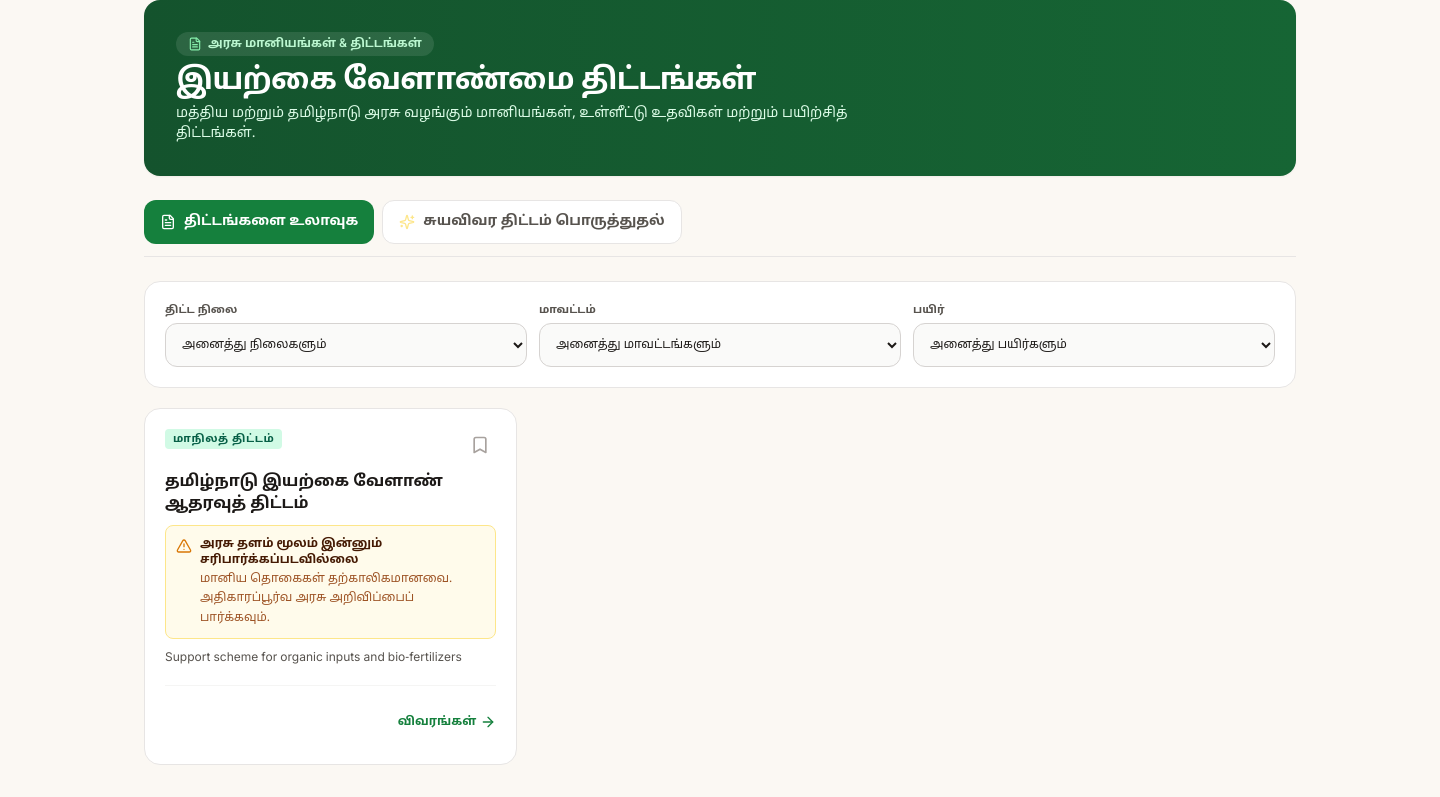
Phase 2: Farmer Core › Schemes Page & Matcher › renders scheme list and allows switching to smart matcher
The image size is (1440, 797).
Check: the heading "தமிழ்நாடு இயற்கை வேளாண் ஆதரவுத் திட்டம்" is shown, box left=165, top=472, right=443, bottom=514
# Switch to Matcher tab
What coordinates should you click on to do the following:
click the button "சுயவிவர திட்டம் பொருத்துதல்"
I would click on:
 (532, 222)
Its box is left=382, top=200, right=682, bottom=244.
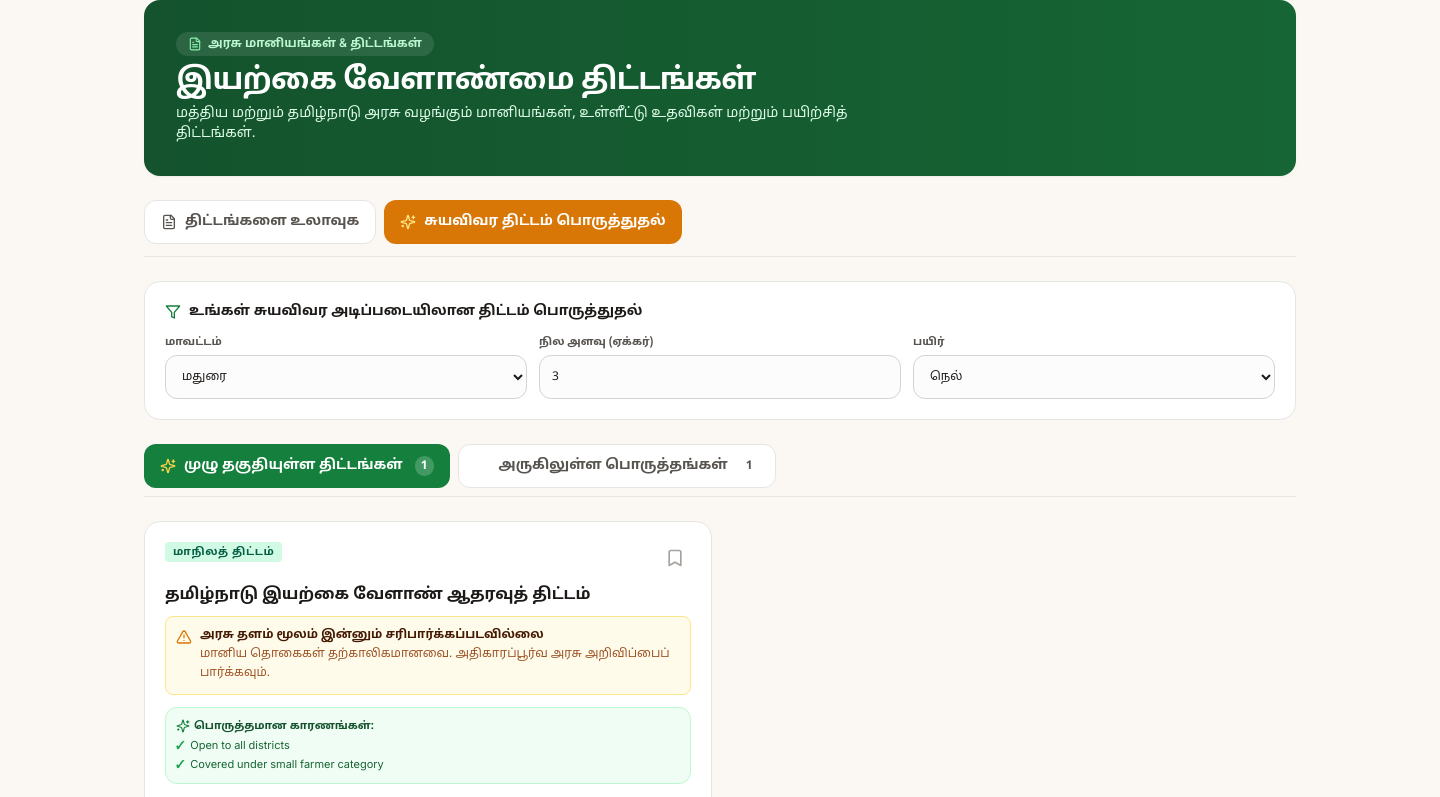
Check: the text "பொருத்தமான காரணங்கள்:" is shown, box left=194, top=718, right=374, bottom=734
Check: the text "Open to all districts" is shown, box left=190, top=738, right=290, bottom=754
# Switch to Near Matches sub-tab
What coordinates should you click on to do the following:
click the button "அருகிலுள்ள பொருத்தங்கள் 1"
I would click on:
 (617, 466)
Its box is left=458, top=444, right=776, bottom=488.
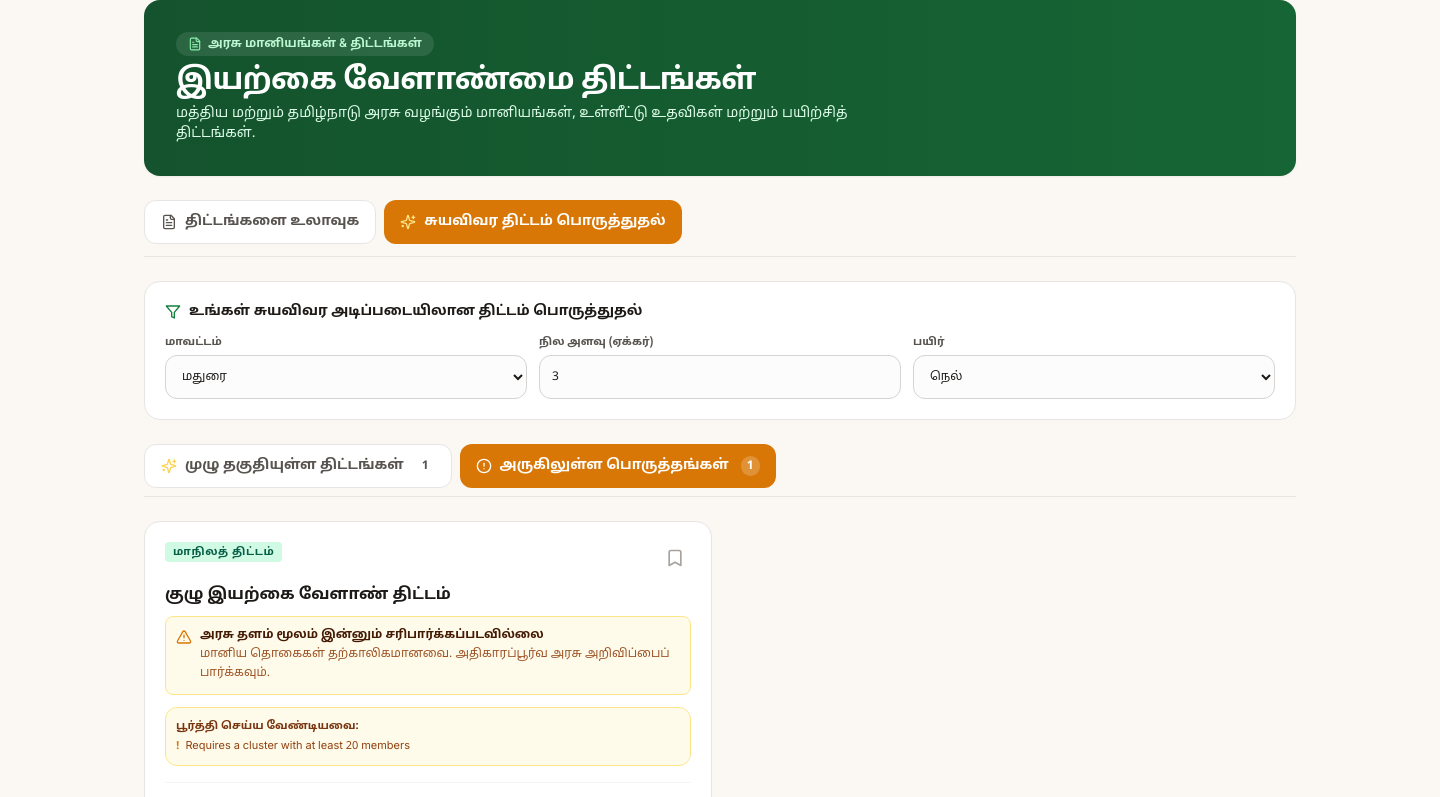
Check: the text "பூர்த்தி செய்ய வேண்டியவை:" is shown, box left=176, top=718, right=359, bottom=732
Check: the text "Requires a cluster with at least 20 members" is shown, box left=185, top=738, right=410, bottom=754
